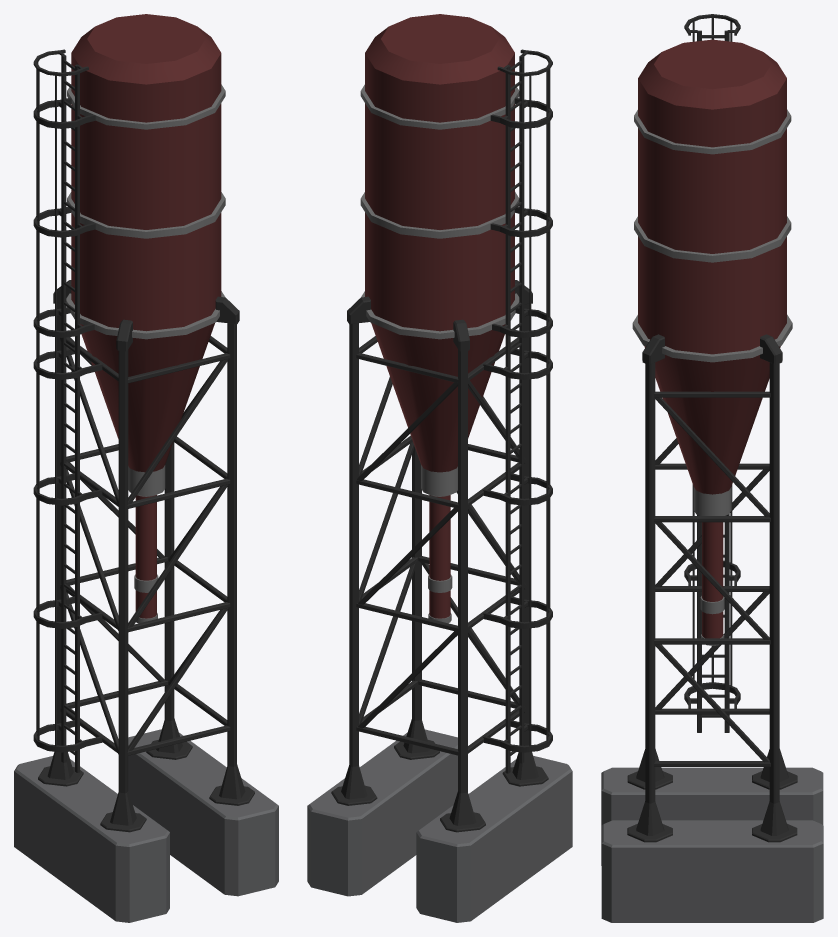
The model's file is farmstractures_23.glb.
3 renders of one model, left to right at view 1: azimuth 30°, elevation 25°; view 2: azimuth 150°, elevation 25°; view 3: azimuth 270°, elevation 25°, orthographic.
Parts seen in each view (by area): view 1: farmstractures_23; view 2: farmstractures_23; view 3: farmstractures_23.
Part boxes in pixels (x1,y1,x2,y2): farmstractures_23: (14,14,278,922); farmstractures_23: (307,14,572,922); farmstractures_23: (601,14,823,922).
Bounding box in the file's own units: 2.93 × 12.13 × 2.98.
1 material, 1 textured.
